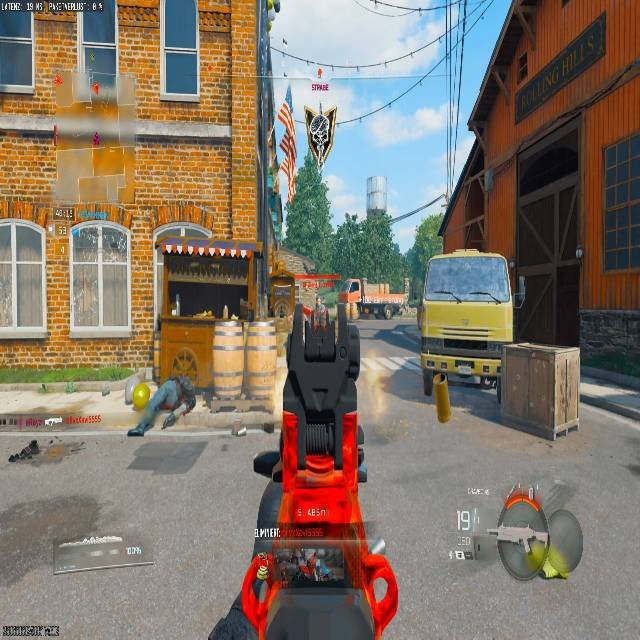player: (315, 296, 327, 326)
